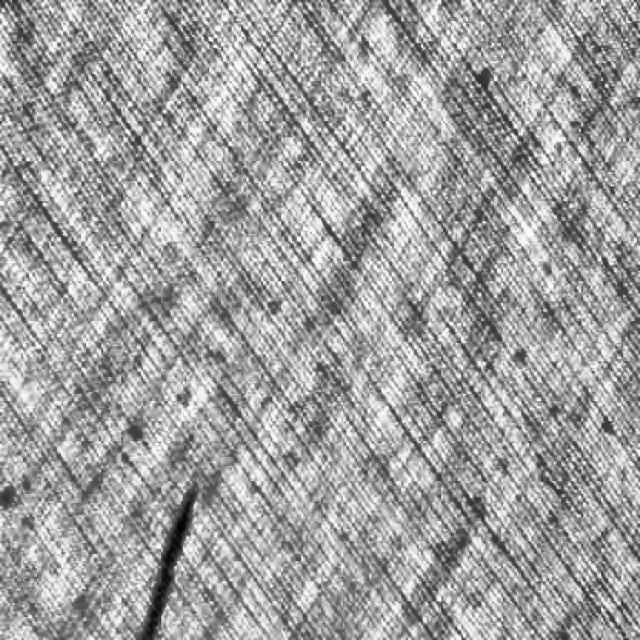oil_spot: (124, 478, 210, 640)
